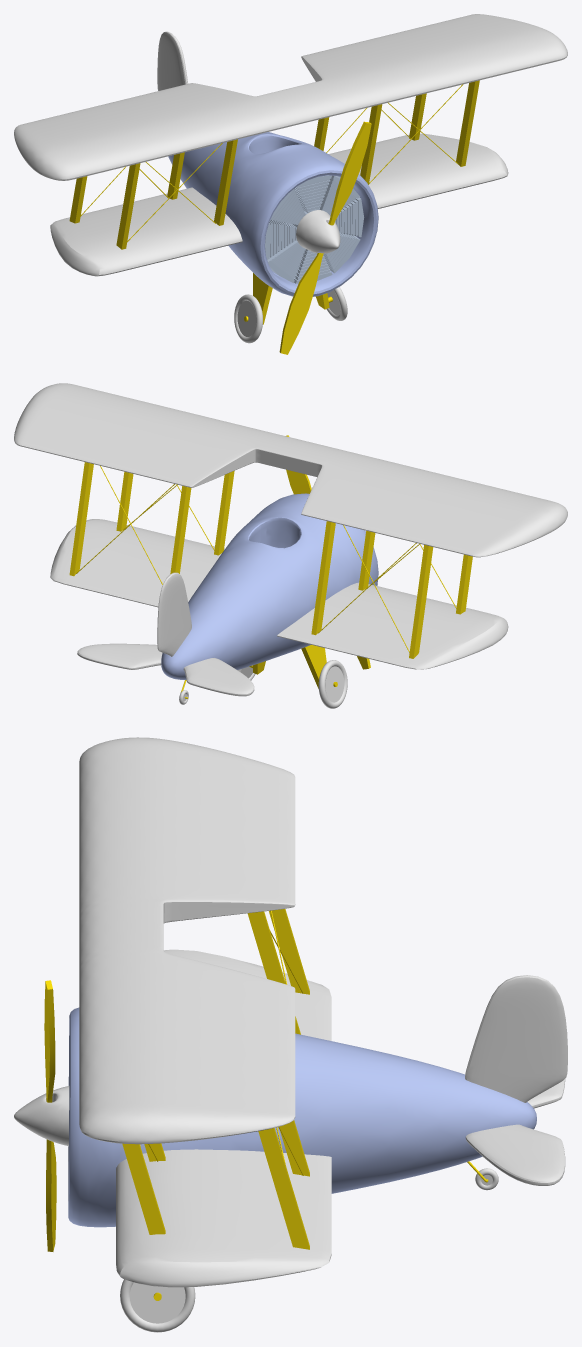
The picture shows the model from 3 angles, top to bottom: view 1: azimuth 30°, elevation 25°; view 2: azimuth 150°, elevation 25°; view 3: azimuth 270°, elevation 25°; orthographic projection. The views are drawn at different scales.
Visible parts, largest first — view 1: 頂, 機翼, 機身, 中心, 支柱 (×7), 槳 (×2), 輪 (×3), mid, 機尾, 支柱網; view 2: 頂, 機翼, 機身, 支柱 (×8), 機尾 (×2), 輪 (×3), 支柱網, 槳; view 3: 頂, 機身, 機翼, 機尾 (×2), 支柱 (×5), 輪 (×2), 槳 (×2), mid.
Part boxes in pixels (x1=…): 頂: x1=14, y1=14, x2=567, y2=180; 機翼: x1=50, y1=133, x2=508, y2=276; 機身: x1=168, y1=132, x2=378, y2=296; 中心: x1=265, y1=175, x2=364, y2=283; 支柱 (×7): x1=69, y1=80, x2=479, y2=249; 槳 (×2): x1=279, y1=121, x2=371, y2=354; 輪 (×3): x1=234, y1=273, x2=347, y2=343; mid: x1=296, y1=210, x2=340, y2=253; 機尾: x1=157, y1=31, x2=188, y2=90; 支柱網: x1=80, y1=84, x2=463, y2=241; 頂: x1=14, y1=383, x2=567, y2=557; 機翼: x1=50, y1=519, x2=508, y2=669; 機身: x1=161, y1=493, x2=378, y2=679; 支柱 (×8): x1=69, y1=462, x2=472, y2=658; 機尾 (×2): x1=77, y1=572, x2=254, y2=696; 輪 (×3): x1=237, y1=645, x2=347, y2=708; 支柱網: x1=76, y1=466, x2=456, y2=652; 槳: x1=286, y1=435, x2=311, y2=494; 頂: x1=79, y1=737, x2=295, y2=1144; 機身: x1=68, y1=1007, x2=536, y2=1227; 機翼: x1=116, y1=949, x2=331, y2=1287; 機尾 (×2): x1=465, y1=975, x2=567, y2=1185; 支柱 (×5): x1=122, y1=909, x2=309, y2=1249; 輪 (×2): x1=120, y1=1279, x2=195, y2=1332; 槳 (×2): x1=44, y1=980, x2=56, y2=1251; mid: x1=14, y1=1086, x2=69, y2=1146.
Size of the model in its own units: 580 by 255 by 345.
